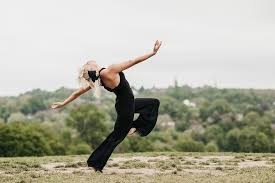Person: (48, 39, 164, 173)
